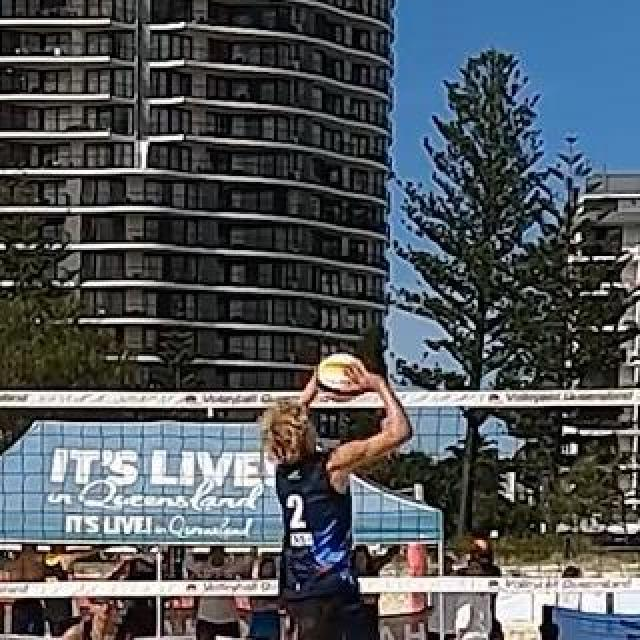volleyball: (318, 352, 366, 402)
